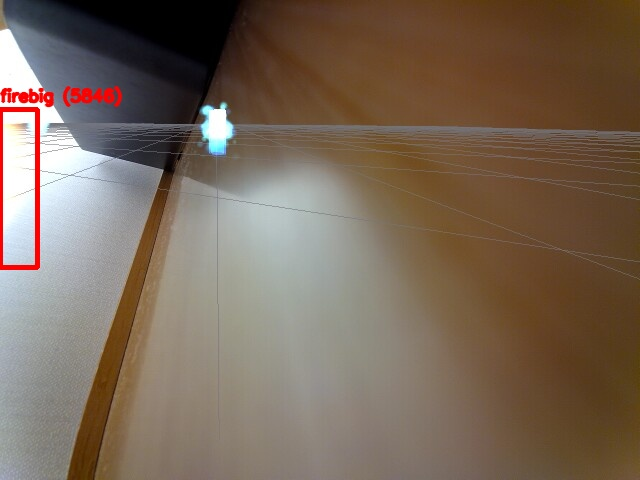firebig: (0, 109, 37, 267)
